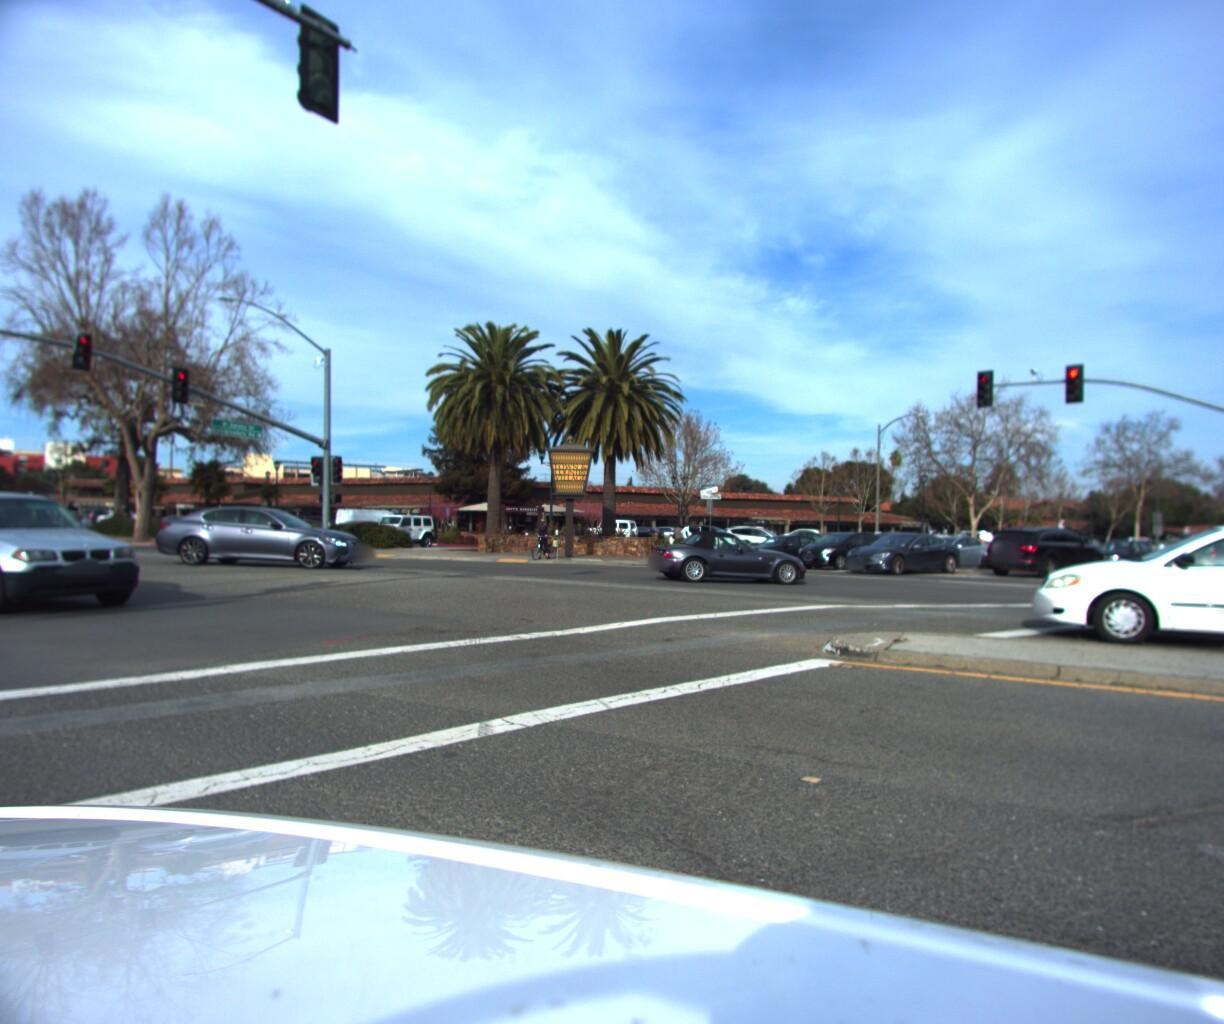car: (1031, 513, 1224, 667), (0, 487, 157, 626), (155, 508, 377, 573), (648, 527, 819, 583), (977, 525, 1111, 578), (827, 527, 975, 575), (718, 530, 836, 573), (780, 528, 894, 571), (890, 530, 991, 569), (1070, 535, 1164, 574), (368, 513, 458, 551), (663, 522, 754, 553), (719, 523, 804, 553)
